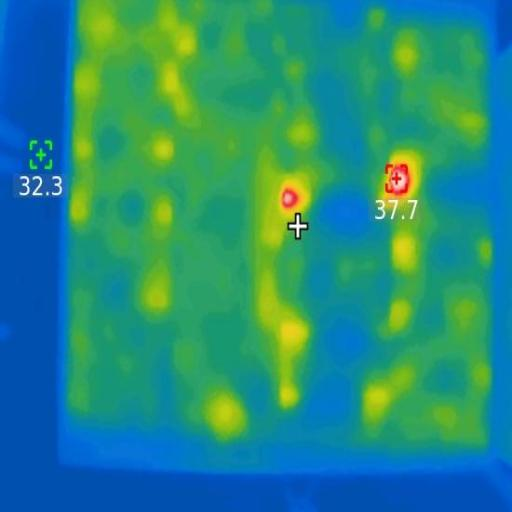hotspot: (384, 158, 412, 199), (280, 186, 302, 210)
